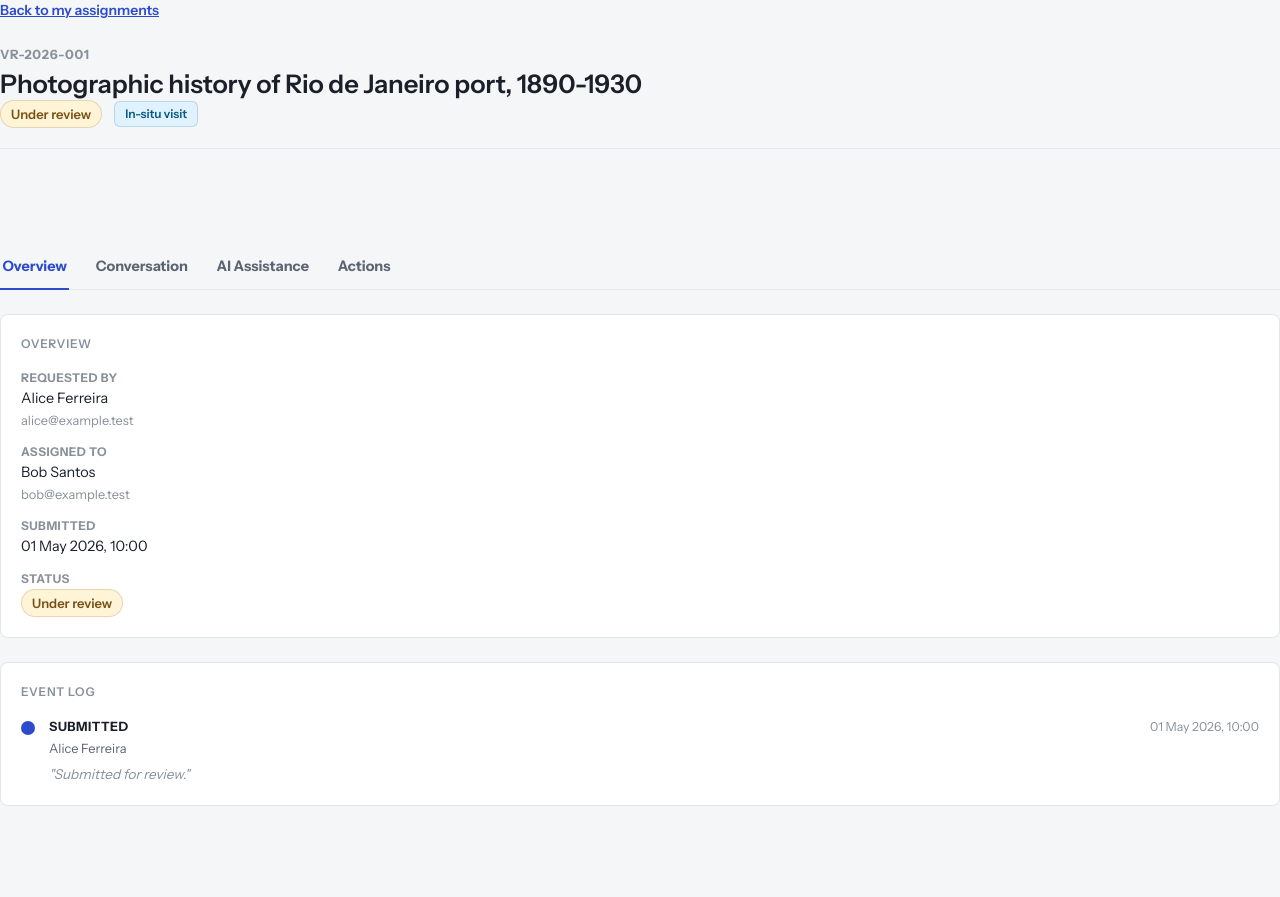
Test case: ProposalMyDetailPageComponent › opens ProposalChat triage for the selected conversation message
This screenshot has width=1280, height=897.
Click the tab "Conversation".
click(142, 267)  # box [93, 245, 190, 290]
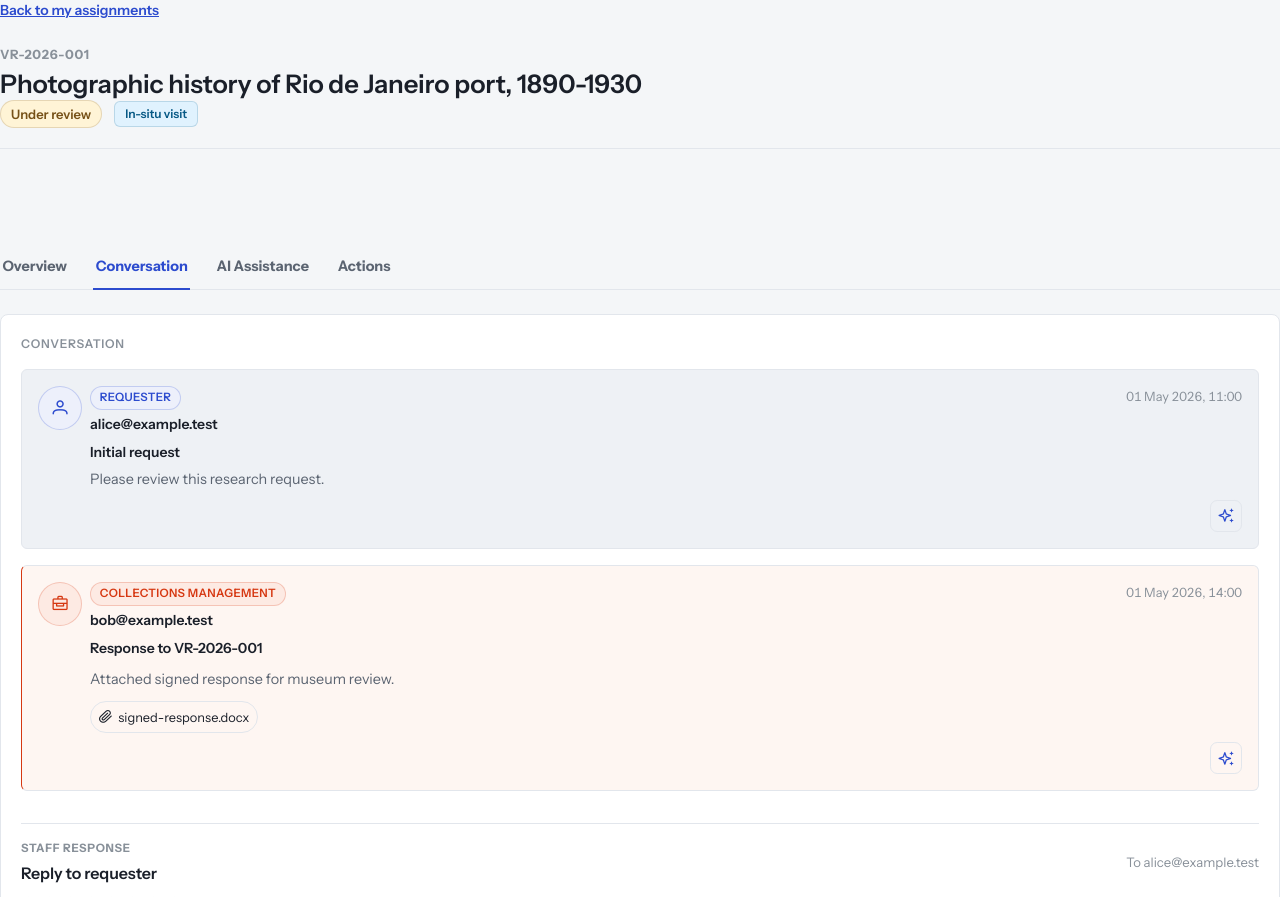
Click the button named "Run intended-use triage for Initial request".
click(1226, 516)  # box [1210, 500, 1242, 532]
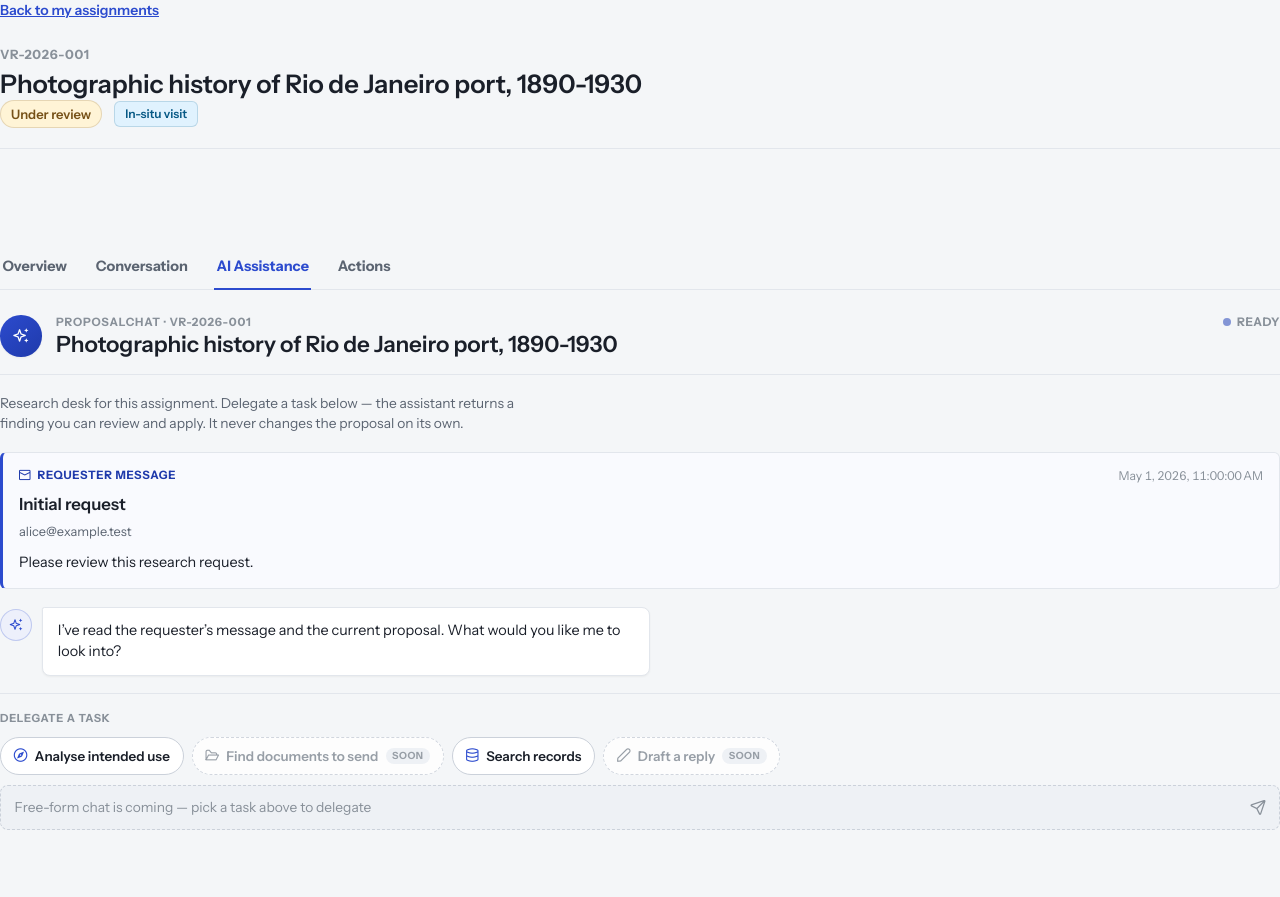
Check: the text "Initial request" is shown, box [19, 494, 126, 514]
Check: the panel with id "ai-assistance-panel" is shown, box [0, 314, 1279, 830]
Check: the text "ProposalChat" is shown, box [56, 315, 251, 329]
